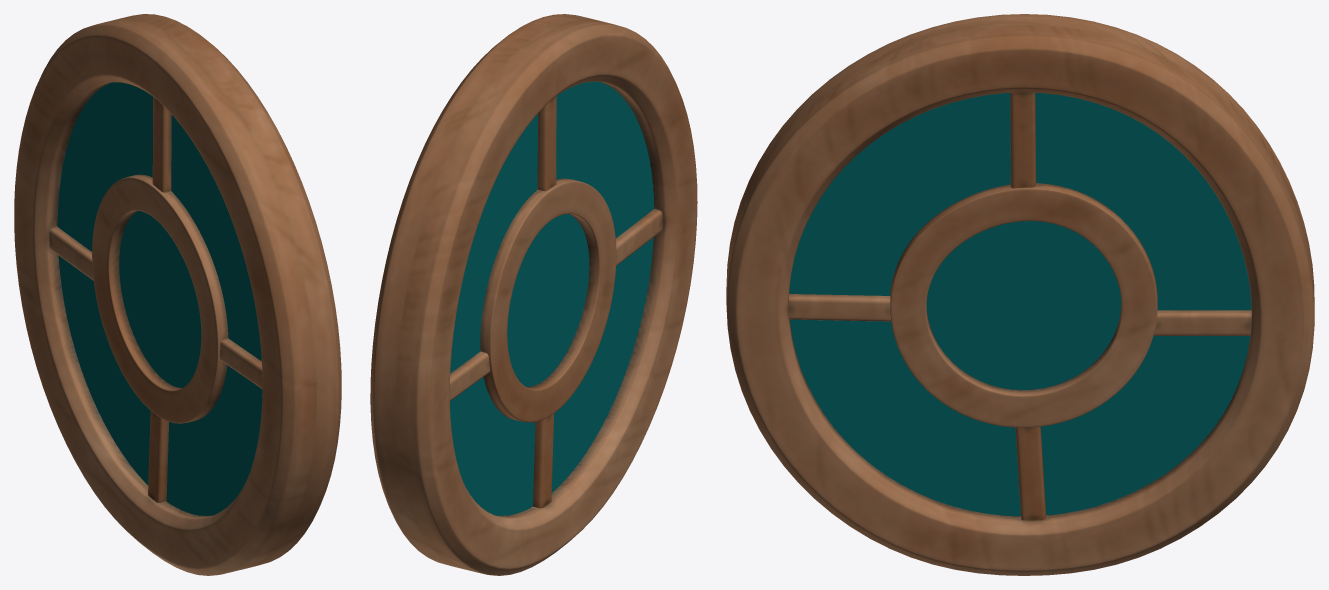
File: Janela.fbx
3 renders of one model, left to right at view 1: azimuth 30°, elevation 25°; view 2: azimuth 150°, elevation 25°; view 3: azimuth 270°, elevation 25°, orthographic. The views are drawn at different scales.
Visible parts, largest first — view 1: Janela_high; view 2: Janela_high; view 3: Janela_high.
Part boxes in pixels (x1=…): Janela_high: x1=14, y1=14, x2=341, y2=575; Janela_high: x1=370, y1=14, x2=697, y2=575; Janela_high: x1=726, y1=14, x2=1314, y2=575.
Size of the model in its own units: 13.42 by 110 by 108.
